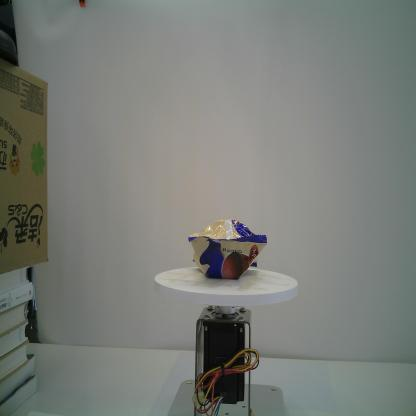Dessert: (186, 214, 268, 283)
